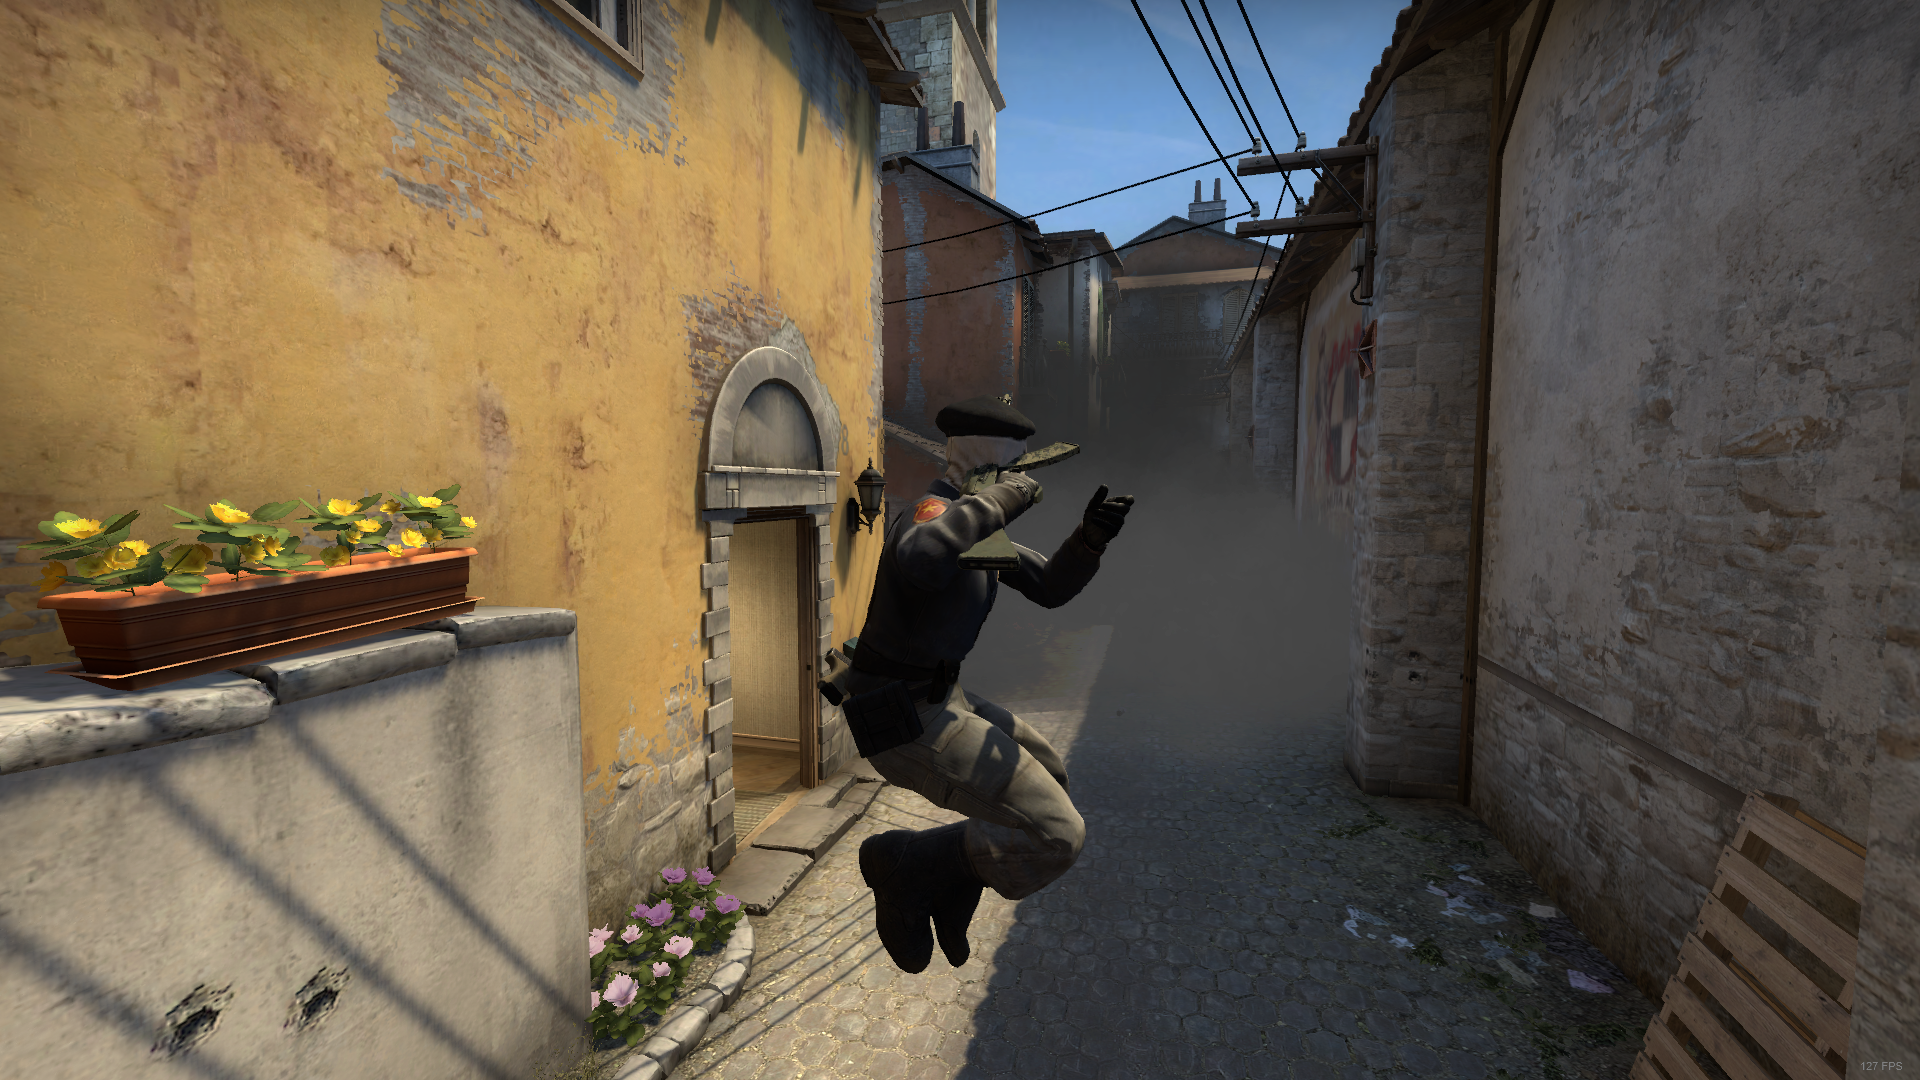t: (814, 392, 1134, 978)
